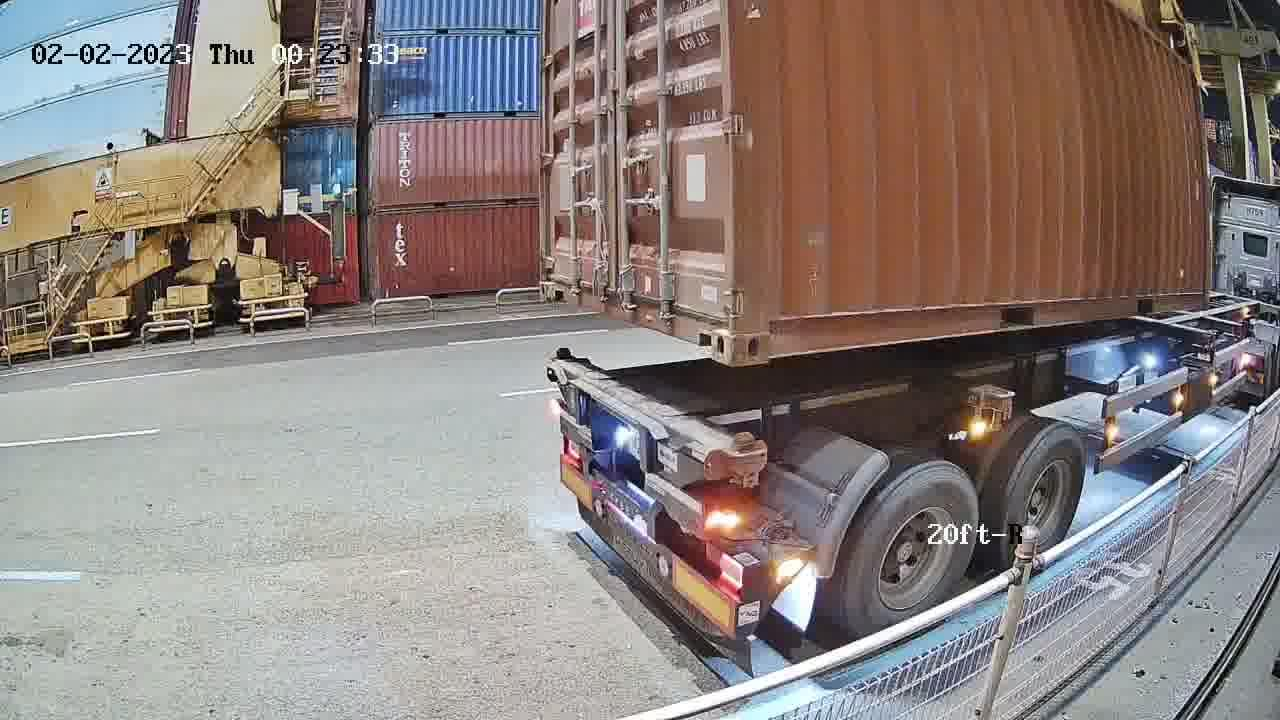Chassis: (548, 354, 766, 489)
Cone: (727, 431, 759, 488), (556, 346, 573, 362)
Hole_L: (735, 282, 814, 368), (539, 260, 573, 306)
Hole_R: (687, 284, 736, 369)
Tire: (847, 462, 982, 646), (1003, 427, 1085, 574)
